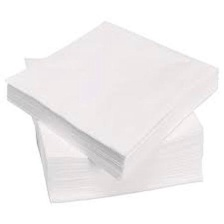tissue: (0, 14, 224, 209)
